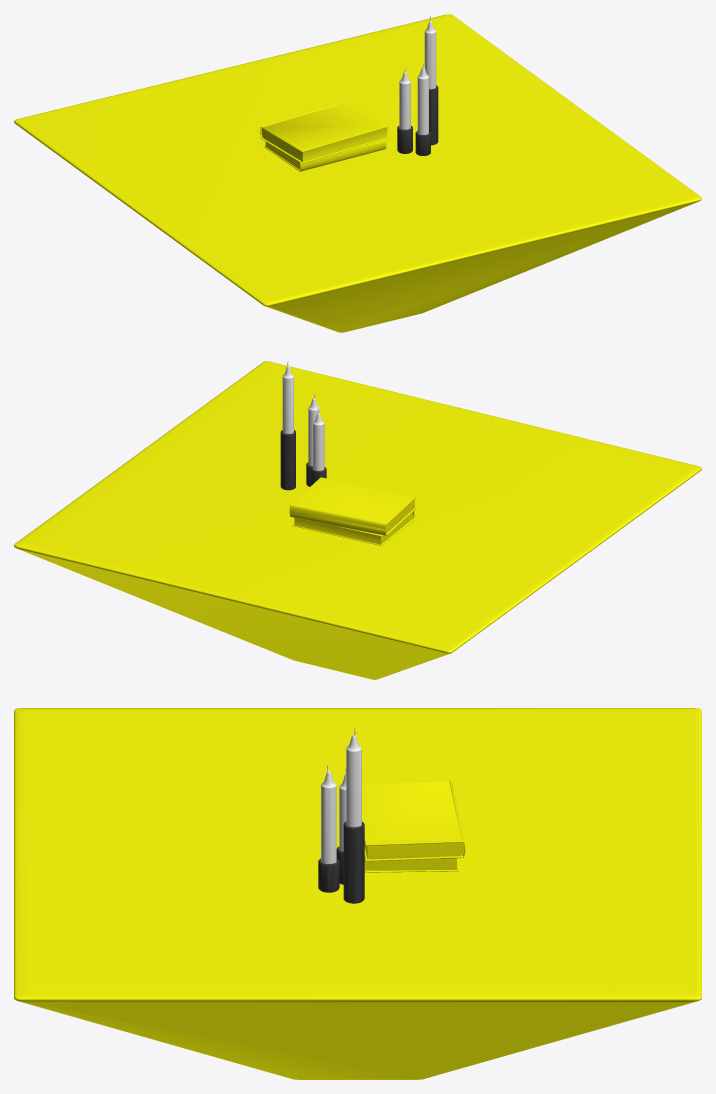
File: designconnected-lythos-coffee-table-7807.optimized.glb
3 renders of one model, top to bottom at view 1: azimuth 30°, elevation 25°; view 2: azimuth 150°, elevation 25°; view 3: azimuth 270°, elevation 25°, orthographic. The views are drawn at different scales.
Parts seen in each view (by area): view 1: Haymann_Lythos_Coffee_Table_mat1; view 2: Haymann_Lythos_Coffee_Table_mat1; view 3: Haymann_Lythos_Coffee_Table_mat1.
Part boxes in pixels (left/top/right/bottom): Haymann_Lythos_Coffee_Table_mat1: left=14, top=14, right=701, bottom=332; Haymann_Lythos_Coffee_Table_mat1: left=14, top=361, right=701, bottom=679; Haymann_Lythos_Coffee_Table_mat1: left=14, top=708, right=701, bottom=1079.
Size of the model in its own units: 1.09 by 0.6489 by 1.09.
